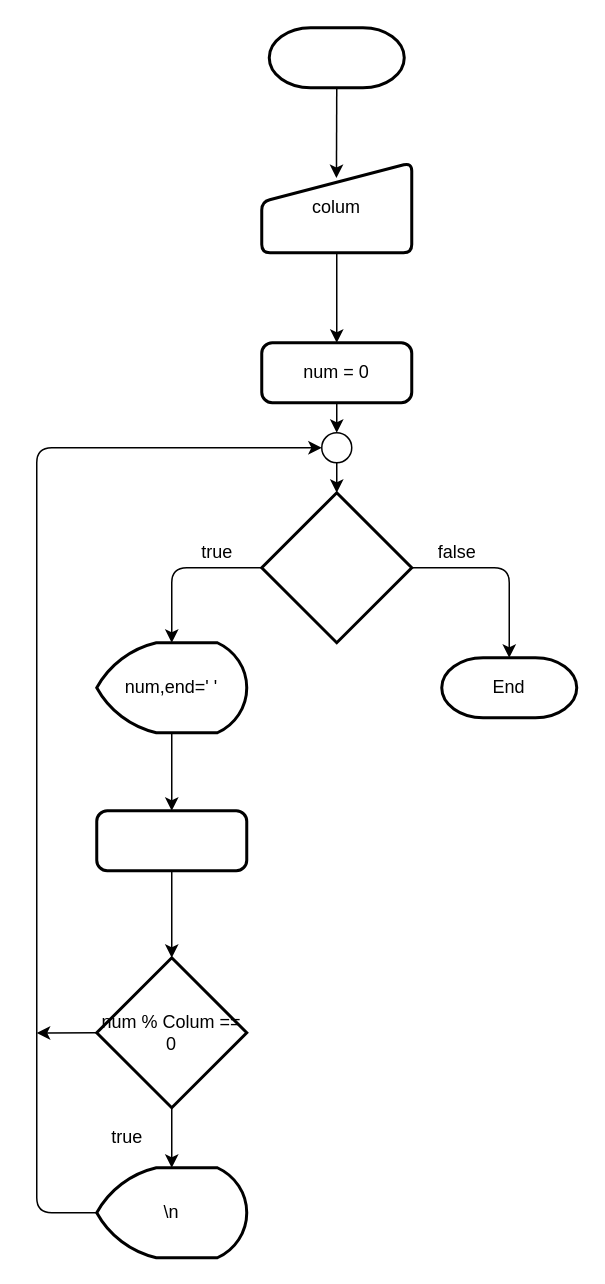
Image size: 605x1284. Some labels were removed from this diagram. The shapes that lost their labels are listed below. From the top down, each one's centre as x and y in pixels, then its label:
At (x=336, y=57): "start".
At (x=336, y=567): "num <= 100".
At (x=171, y=840): "num = num+1".
